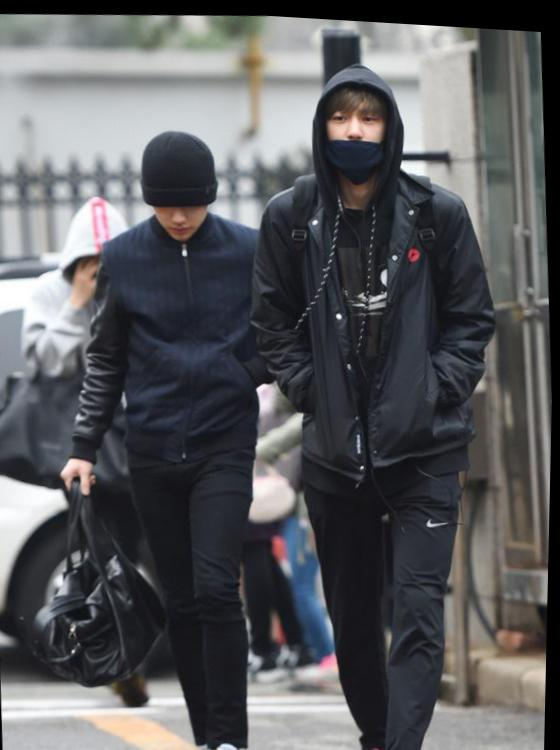NONE: (153, 181, 216, 244)
WRONG: (319, 92, 395, 174)
